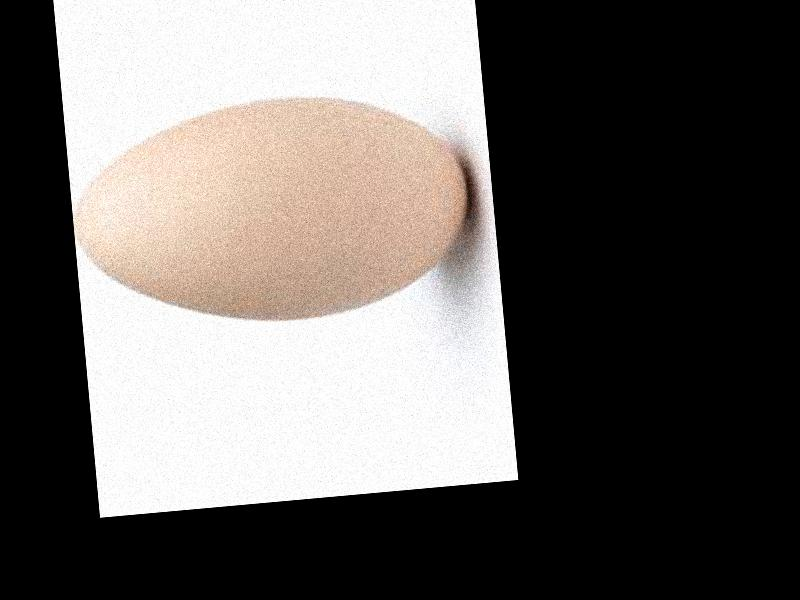Eggs: (66, 84, 480, 338)
